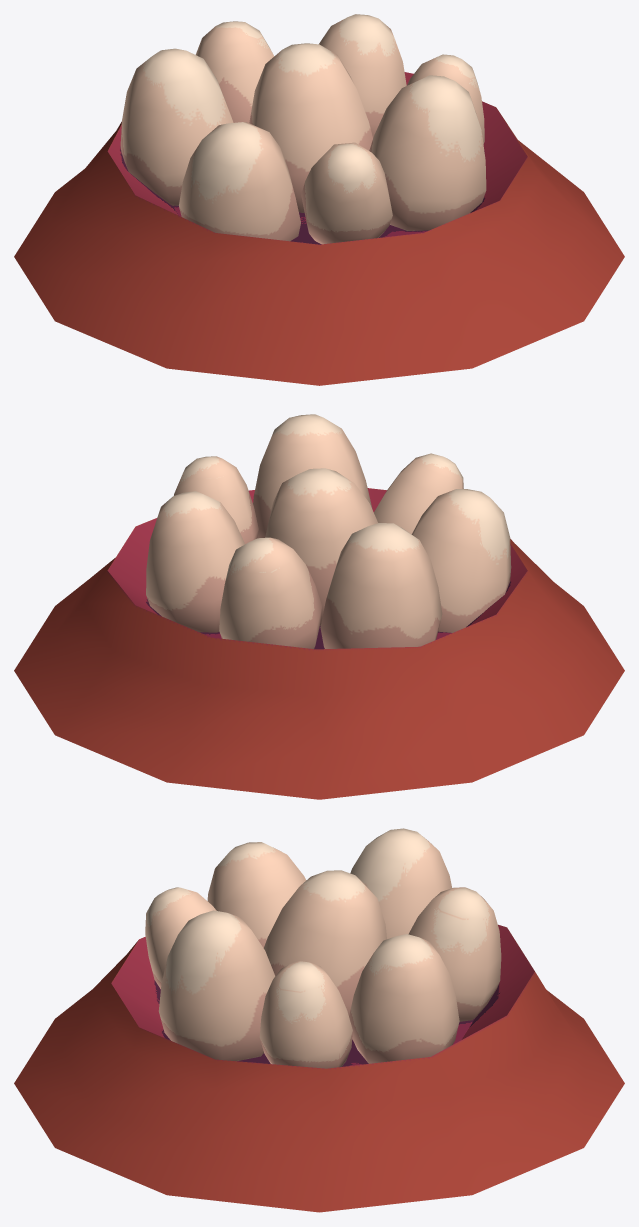
File: DinoNestFinal.fbx
3 renders of one model, top to bottom at view 1: azimuth 30°, elevation 25°; view 2: azimuth 150°, elevation 25°; view 3: azimuth 270°, elevation 25°, orthographic.
Parts seen in each view (by area): view 1: DinoNest; view 2: DinoNest; view 3: DinoNest.
Boxes of the visible parts, left/top/right/bottom form: DinoNest: left=14, top=14, right=624, bottom=385; DinoNest: left=14, top=414, right=624, bottom=799; DinoNest: left=14, top=828, right=624, bottom=1212.
Bounding box in the file's own units: 7.86 × 2.91 × 7.86.
